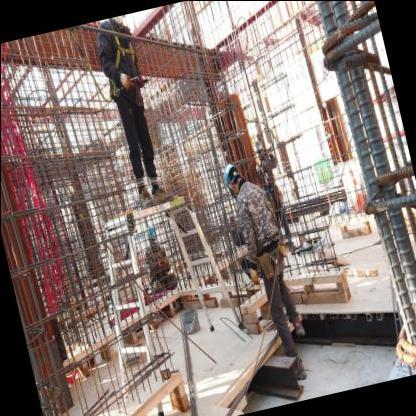safety-shoe: (149, 181, 179, 209), (134, 185, 155, 215), (290, 355, 310, 382), (289, 313, 307, 343)
